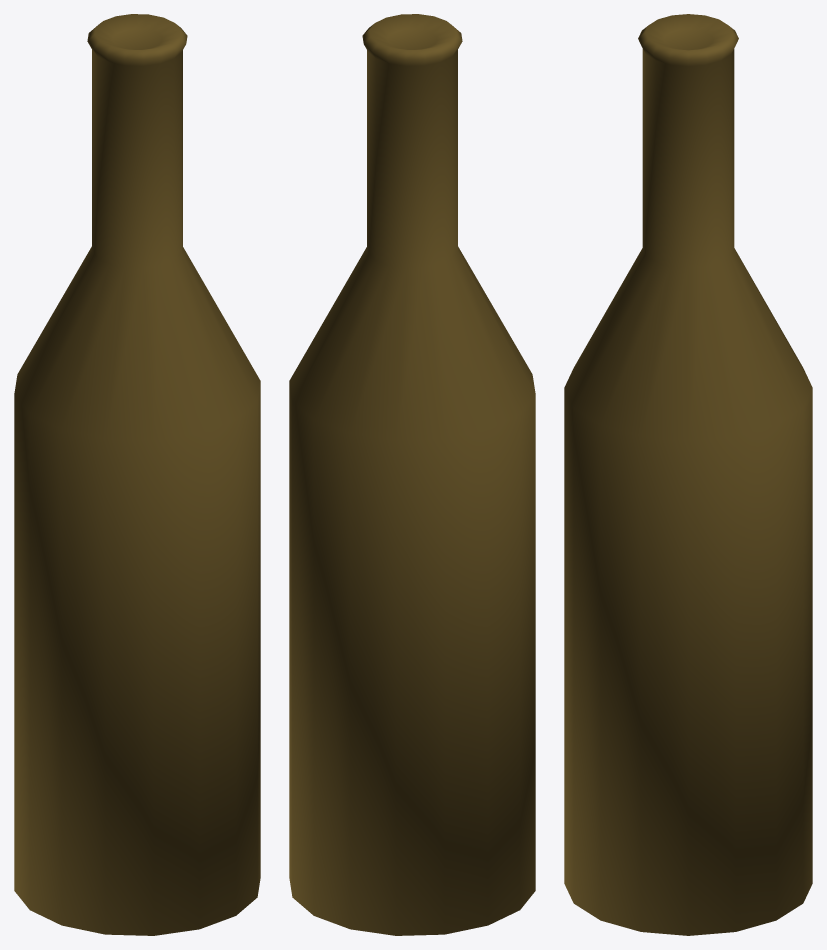
The model's file is bottle.fbx.
3 views of the same model, side by side, from view 1: azimuth 30°, elevation 25°; view 2: azimuth 150°, elevation 25°; view 3: azimuth 270°, elevation 25° (orthographic).
Visible parts, largest first — view 1: Bottle; view 2: Bottle; view 3: Bottle.
Part boxes in pixels (x1,y1,x2,y2): Bottle: (14,14,260,935); Bottle: (289,14,535,935); Bottle: (564,14,812,935).
Bounding box in the file's own units: 32.67 × 123 × 32.67.
